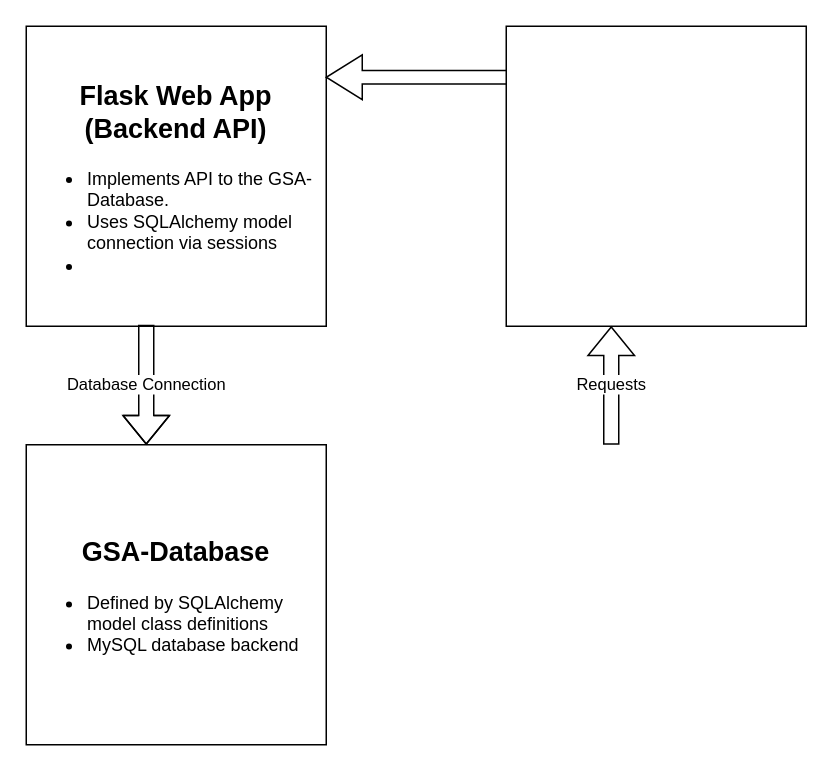
The diagram is 833 pixels wide and 771 high, and some of its shapes have lost their labels. The shapes that lost their labels are listed below. From the top down, each one's centre as x and y in pixels, then its label:
At point 415,76: "Authenticated Requests".
At point 655,175: "NodeJS (Backend) Implements Role based authentication Uses DynDb schema".
